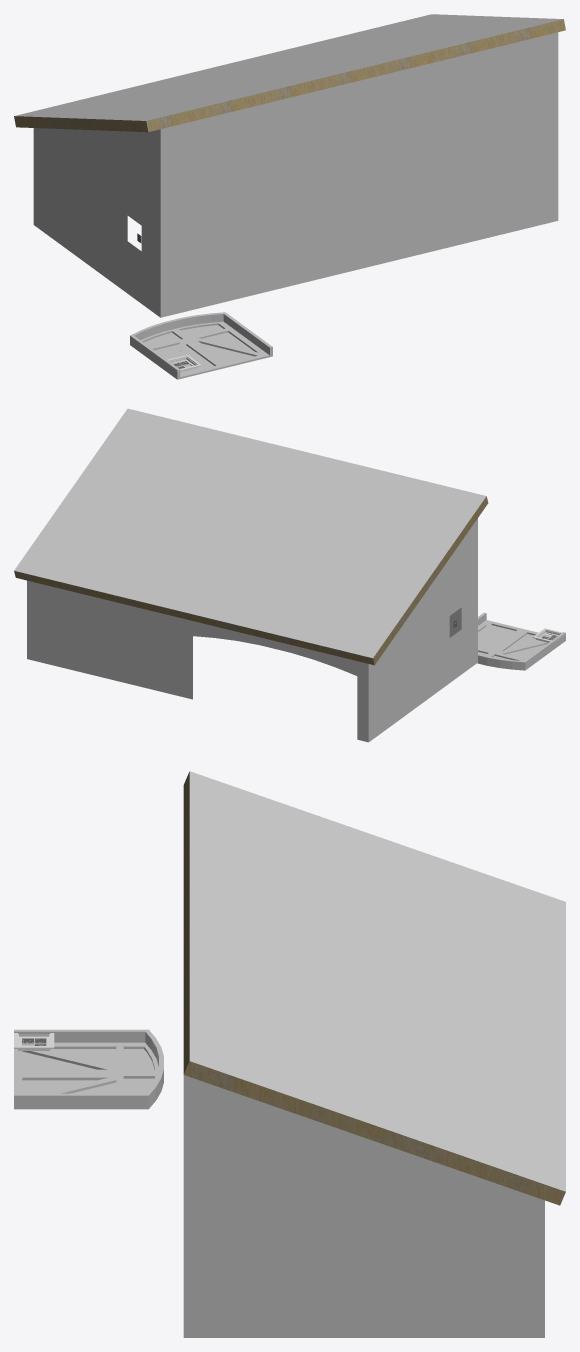
Rendered from building4.fbx.
The picture shows the model from 3 angles, top to bottom: view 1: azimuth 30°, elevation 25°; view 2: azimuth 150°, elevation 25°; view 3: azimuth 270°, elevation 25°; orthographic projection. The views are drawn at different scales.
Visible parts, largest first — view 1: SketchUp_001, SketchUp_003, SketchUp, Door_Garage_Carriage_1, Door_Garage_Carriage_1_002, Door_Garage_Carriage_1_001; view 2: SketchUp_003, SketchUp_001, SketchUp, Door_Garage_Carriage_1; view 3: SketchUp_003, SketchUp_001, SketchUp, Door_Garage_Carriage_1, Door_Garage_Carriage_1_001, Door_Garage_Carriage_1_003, Door_Garage_Carriage_1_004, Door_Garage_Carriage_1_006.
Part boxes in pixels (x1=…): SketchUp_001: x1=33, y1=32, x2=558, y2=317; SketchUp_003: x1=15, y1=14, x2=563, y2=120; SketchUp: x1=14, y1=19, x2=565, y2=132; Door_Garage_Carriage_1: x1=130, y1=312, x2=272, y2=379; Door_Garage_Carriage_1_002: x1=199, y1=330, x2=257, y2=352; Door_Garage_Carriage_1_001: x1=198, y1=341, x2=257, y2=362; SketchUp_003: x1=14, y1=408, x2=486, y2=658; SketchUp_001: x1=27, y1=518, x2=477, y2=742; SketchUp: x1=14, y1=496, x2=488, y2=665; Door_Garage_Carriage_1: x1=477, y1=612, x2=565, y2=670; SketchUp_003: x1=189, y1=771, x2=565, y2=1191; SketchUp_001: x1=183, y1=1075, x2=544, y2=1337; SketchUp: x1=183, y1=771, x2=565, y2=1205; Door_Garage_Carriage_1: x1=14, y1=1029, x2=163, y2=1109; Door_Garage_Carriage_1_001: x1=22, y1=1077, x2=107, y2=1093; Door_Garage_Carriage_1_003: x1=22, y1=1051, x2=106, y2=1069; Door_Garage_Carriage_1_004: x1=49, y1=1046, x2=116, y2=1067; Door_Garage_Carriage_1_006: x1=123, y1=1046, x2=154, y2=1071.
Size of the model in its own units: 540 by 237 by 405.
